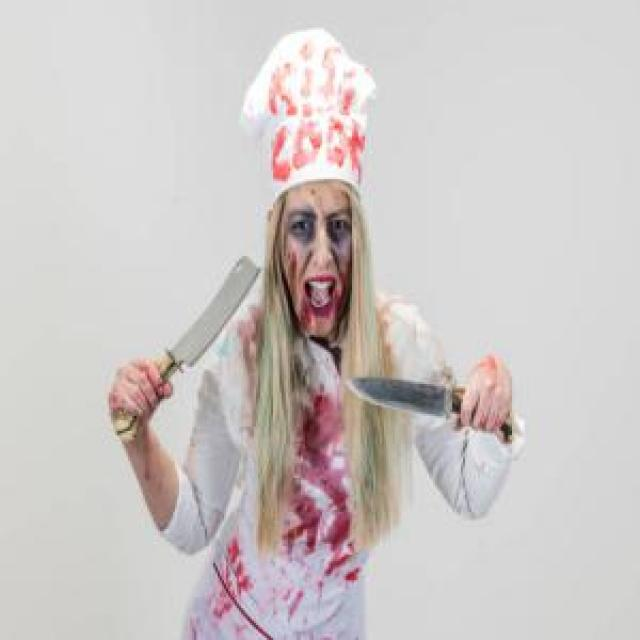knife: (113, 256, 262, 433), (346, 371, 515, 446)
